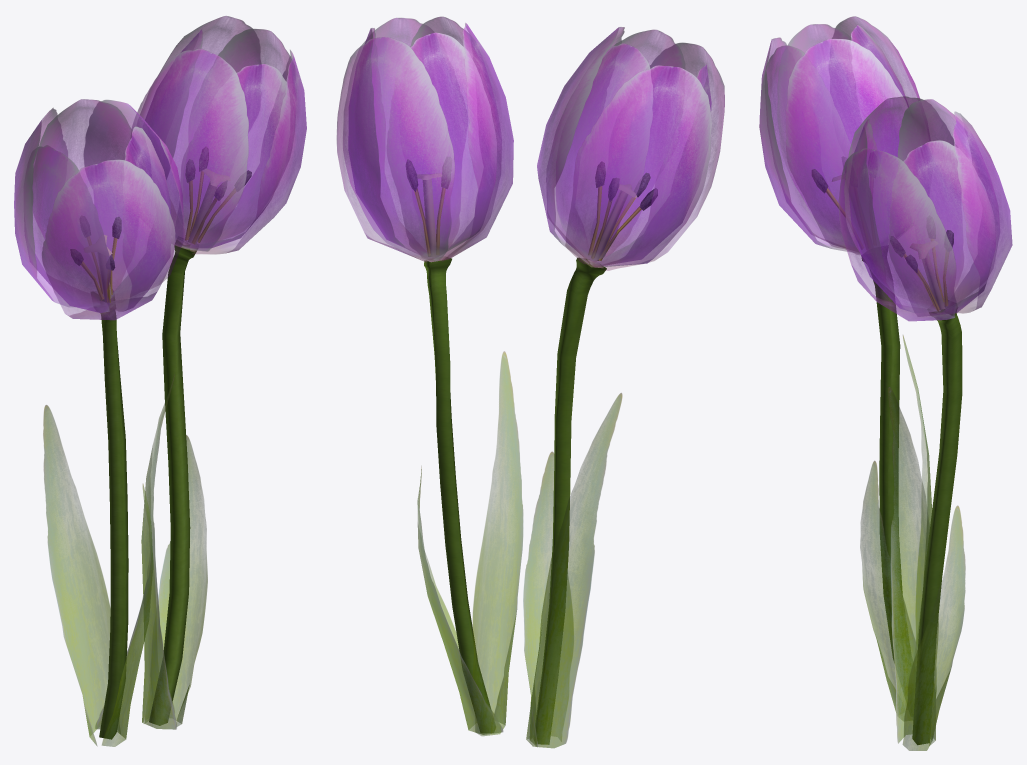
File: Generic_tulip_flower.glb
The picture shows the model from 3 angles, left to right: view 1: azimuth 30°, elevation 25°; view 2: azimuth 150°, elevation 25°; view 3: azimuth 270°, elevation 25°; orthographic projection. The views are drawn at different scales.
Visible parts, largest first — view 1: Cylinder.002_tulip_transparent_1_0, Cylinder.001_tulip_transparent_1_0, Cylinder.001_tulip_opague_1_0, Cylinder.002_tulip_opague_1_0; view 2: Cylinder.002_tulip_transparent_1_0, Cylinder.001_tulip_transparent_1_0, Cylinder.002_tulip_opague_1_0, Cylinder.001_tulip_opague_1_0; view 3: Cylinder.001_tulip_transparent_1_0, Cylinder.002_tulip_transparent_1_0, Cylinder.001_tulip_opague_1_0, Cylinder.002_tulip_opague_1_0.
Part boxes in pixels (x1,y1,x2,y2): Cylinder.002_tulip_transparent_1_0: [14, 99, 183, 746]; Cylinder.001_tulip_transparent_1_0: [132, 16, 306, 729]; Cylinder.001_tulip_opague_1_0: [149, 147, 251, 725]; Cylinder.002_tulip_opague_1_0: [70, 217, 128, 739]; Cylinder.002_tulip_transparent_1_0: [523, 27, 724, 748]; Cylinder.001_tulip_transparent_1_0: [336, 16, 523, 735]; Cylinder.002_tulip_opague_1_0: [535, 162, 657, 744]; Cylinder.001_tulip_opague_1_0: [406, 158, 494, 732]; Cylinder.001_tulip_transparent_1_0: [838, 96, 1012, 750]; Cylinder.002_tulip_transparent_1_0: [759, 16, 934, 720]; Cylinder.001_tulip_opague_1_0: [890, 230, 962, 744]; Cylinder.002_tulip_opague_1_0: [812, 157, 911, 701].
Bounding box in the file's own units: 10.63 × 21.37 × 7.43.
2 materials, 2 textured.
